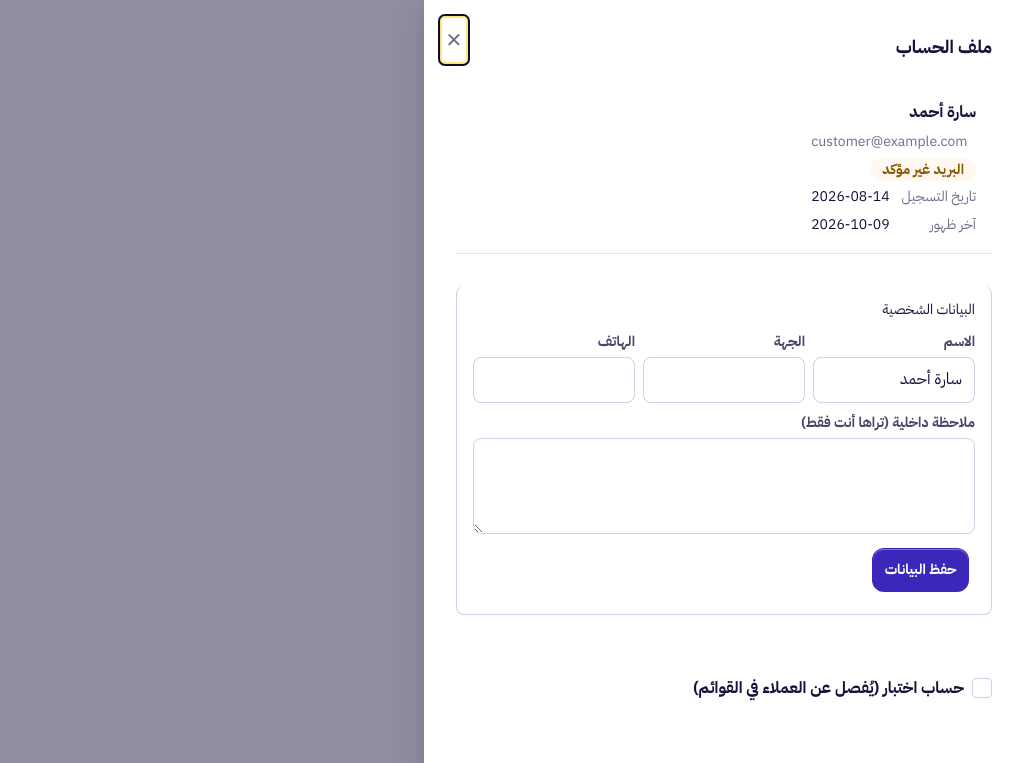
AccountFile › saves the details as typed and says so
Type "متجر الأزياء" into the field labelled "الجهة" at (724, 380), box top-left (643, 357), bottom-right (805, 403)
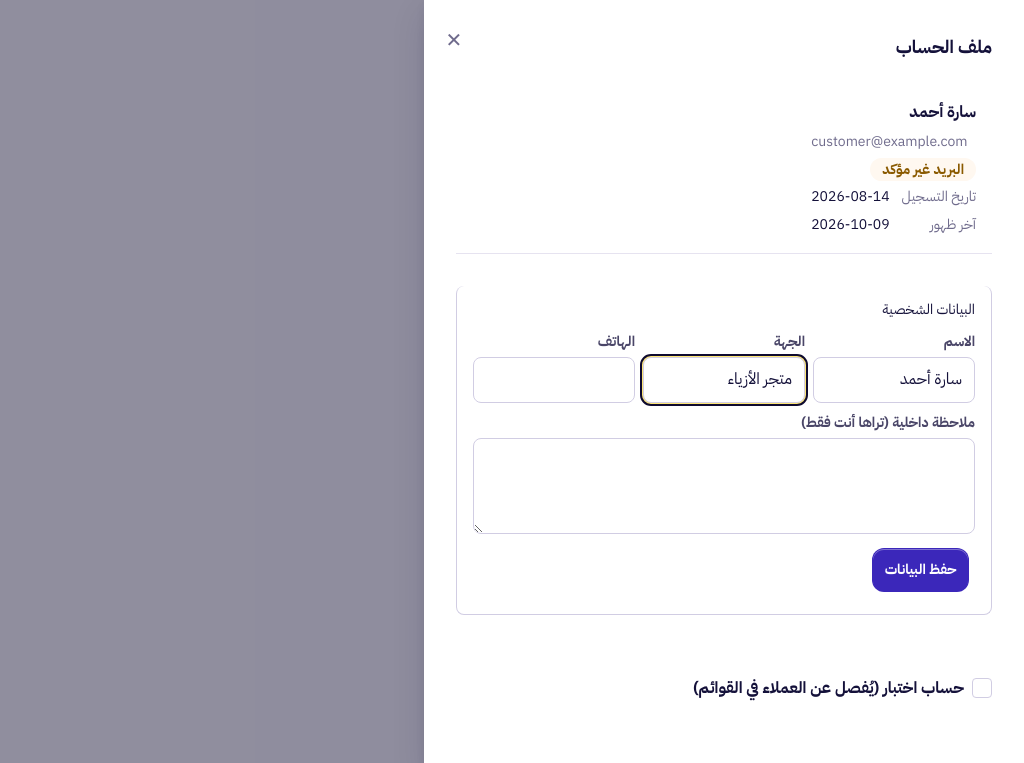
Click the button "حفظ البيانات" at (921, 570), box top-left (872, 548), bottom-right (969, 592)
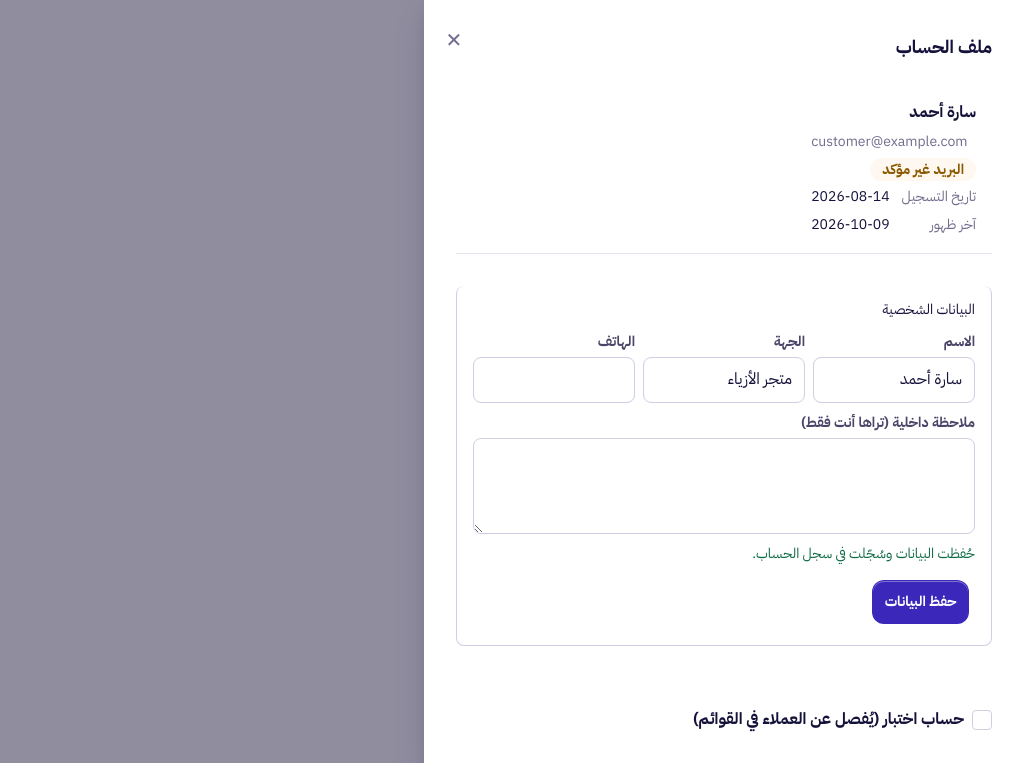
Expected: the message reads "حُفظت البيانات وسُجّلت في سجل الحساب.", top-left (752, 543), bottom-right (975, 564)
